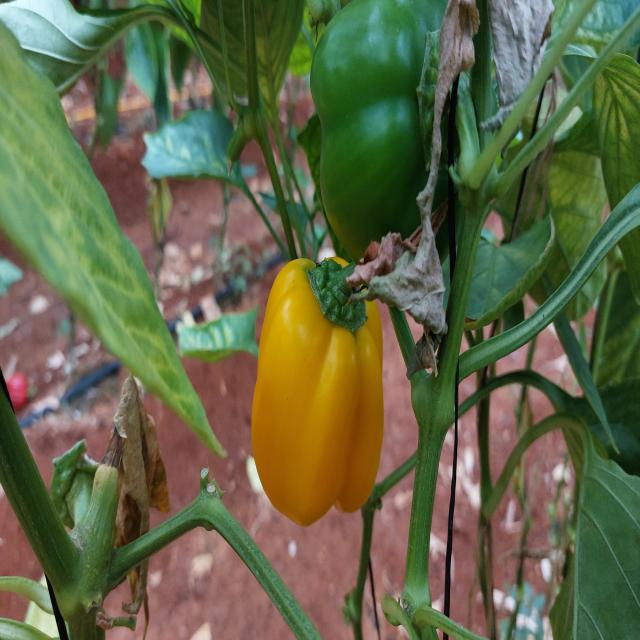Yellow-Ready-to-Harvest: (247, 255, 387, 528)
